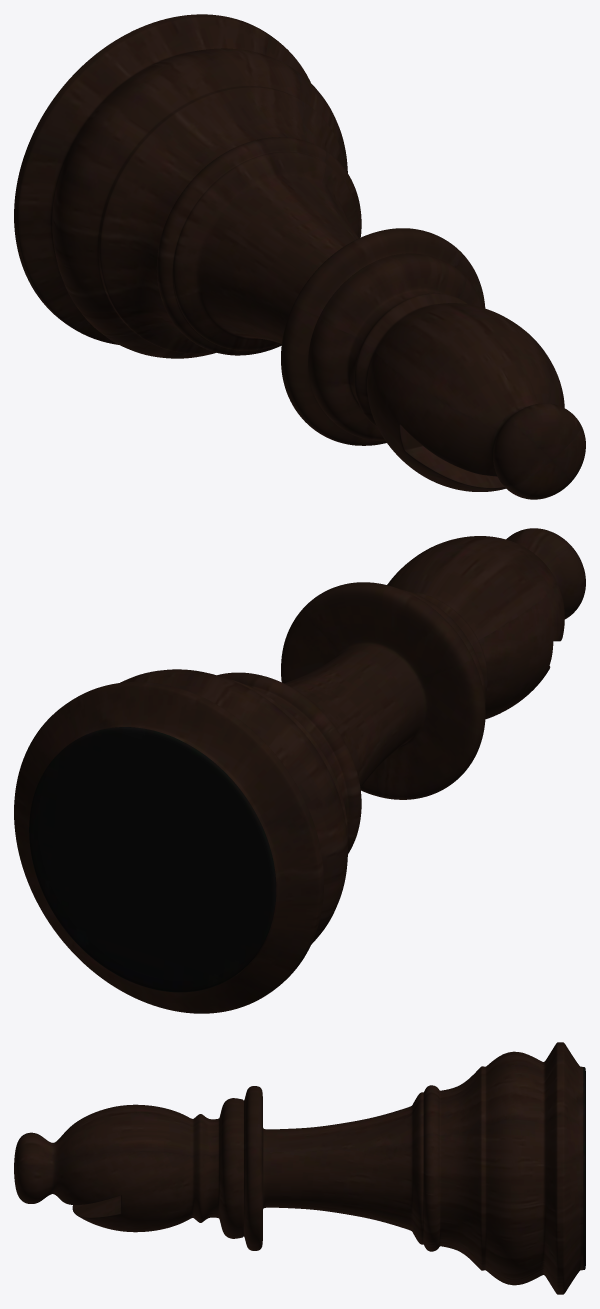
File: bishop.glb
3 views of the same model, one above another, from view 1: azimuth 30°, elevation 25°; view 2: azimuth 150°, elevation 25°; view 3: azimuth 270°, elevation 25° (orthographic). The views are drawn at different scales.
Parts seen in each view (by area): view 1: Node1; view 2: Node1; view 3: Node1.
Boxes of the visible parts, x1,y1,x2,y2 form: Node1: (14, 14, 585, 499); Node1: (14, 528, 585, 1013); Node1: (14, 1042, 585, 1294).
Size of the model in its own units: 4.62 by 4.62 by 10.48.
Materials: 1 (1 with a texture image).
